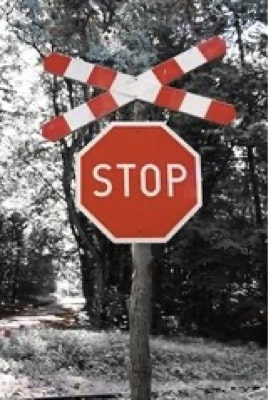StopSign: (75, 119, 204, 246)
